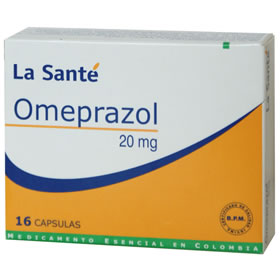LaSante: (4, 41, 265, 254)
